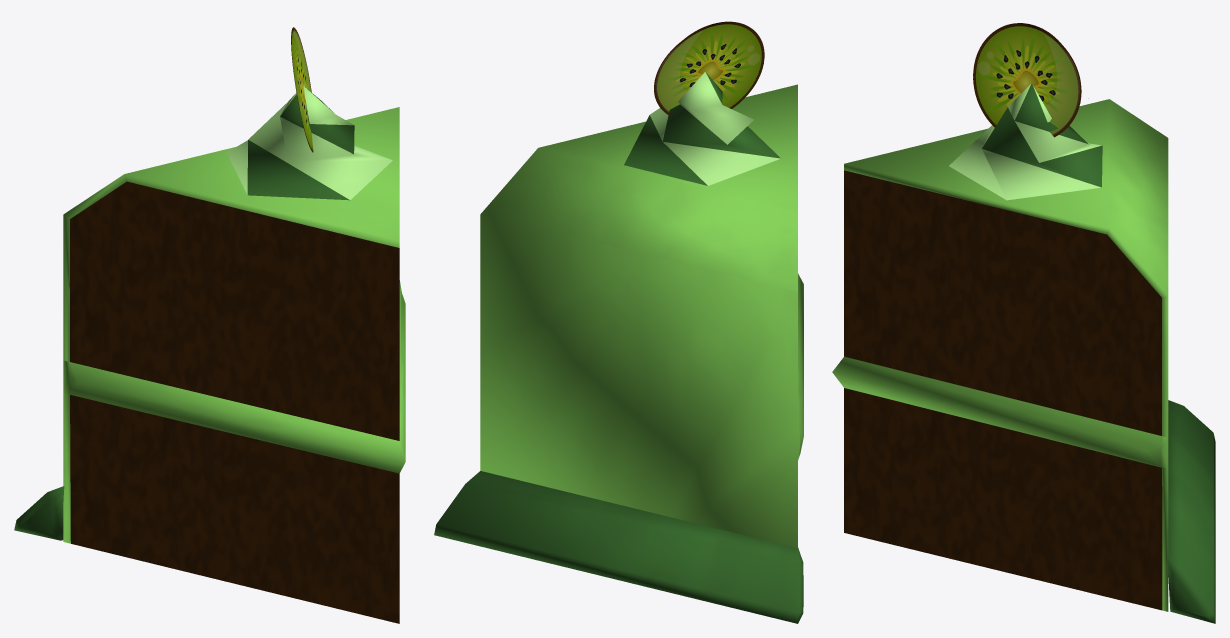
File: Cake_Slice_A_2.FBX
The picture shows the model from 3 angles, left to right: view 1: azimuth 30°, elevation 25°; view 2: azimuth 150°, elevation 25°; view 3: azimuth 270°, elevation 25°; orthographic projection. The views are drawn at different scales.
Parts seen in each view (by area): view 1: Cake_03; view 2: Cake_03; view 3: Cake_03.
Boxes of the visible parts, x1,y1,x2,y2 form: Cake_03: (14,27,405,623); Cake_03: (434,21,803,623); Cake_03: (832,23,1215,623).
Size of the model in its own units: 58.57 by 76.29 by 52.35.
